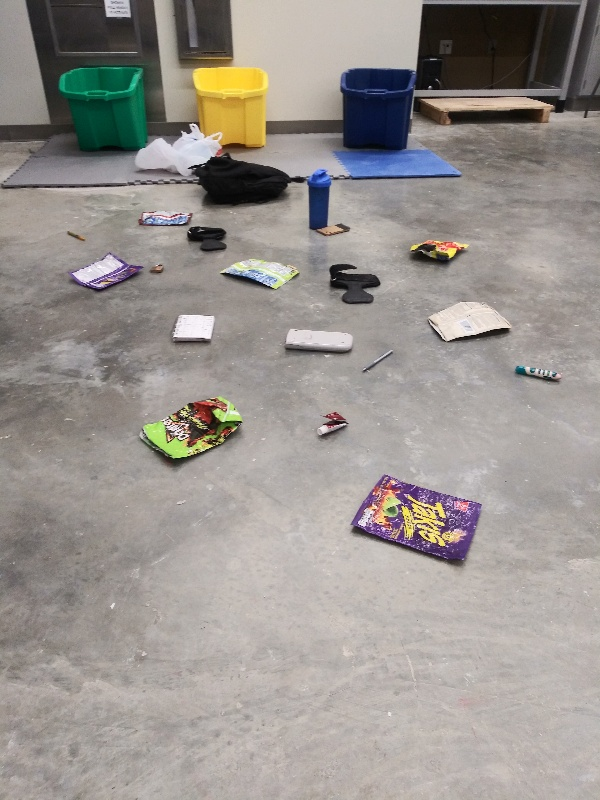bag: (344, 470, 487, 570), (135, 392, 249, 466), (426, 295, 519, 342), (214, 252, 304, 294), (63, 249, 147, 292), (404, 231, 476, 264), (136, 206, 196, 229)
